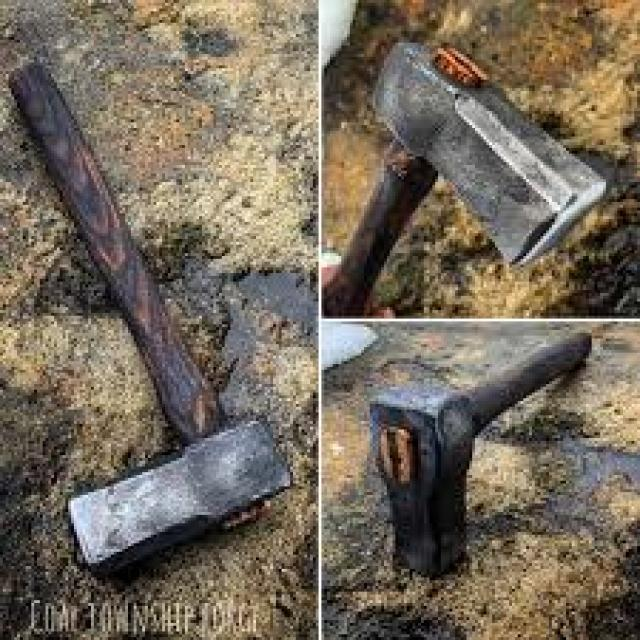hammer: (5, 54, 302, 580), (320, 32, 613, 320), (350, 324, 603, 580)
